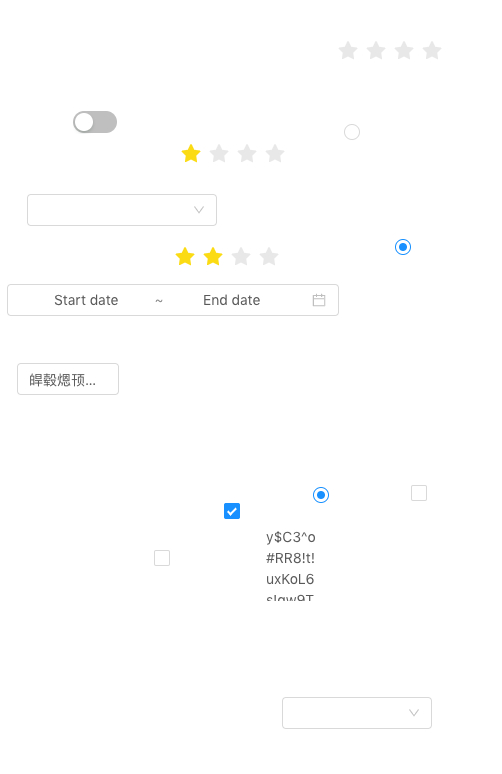Checkbox: (411, 482, 427, 503), (154, 547, 170, 568), (224, 500, 240, 521)
Input: (17, 363, 119, 395)
Radio: (313, 484, 329, 504), (395, 236, 411, 256), (344, 121, 360, 141)
RangePicker: (7, 284, 454, 316)
Rate: (175, 240, 295, 272), (338, 34, 458, 66), (181, 137, 301, 169)
Select: (27, 194, 217, 226), (282, 697, 432, 729)
Switch: (73, 110, 117, 134)
Text: (266, 526, 318, 601)
